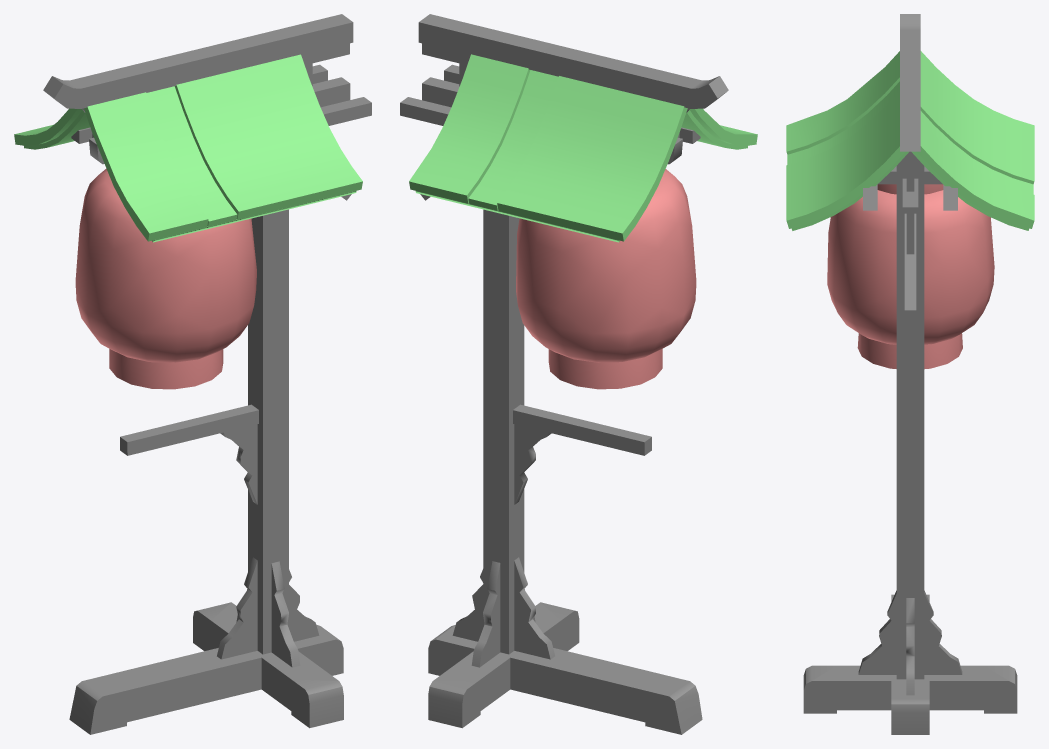
File: SM_ENV_LKNVLD_InnSignboard_B_Lod1.gltf
The picture shows the model from 3 angles, left to right: view 1: azimuth 30°, elevation 25°; view 2: azimuth 150°, elevation 25°; view 3: azimuth 270°, elevation 25°; orthographic projection. The views are drawn at different scales.
Parts seen in each view (by area): view 1: SM_ENV_LKNVLD_InnSignboard_B_Lod1; view 2: SM_ENV_LKNVLD_InnSignboard_B_Lod1; view 3: SM_ENV_LKNVLD_InnSignboard_B_Lod1.
Part boxes in pixels (x1=…): SM_ENV_LKNVLD_InnSignboard_B_Lod1: x1=14, y1=14, x2=371, y2=734; SM_ENV_LKNVLD_InnSignboard_B_Lod1: x1=400, y1=14, x2=757, y2=734; SM_ENV_LKNVLD_InnSignboard_B_Lod1: x1=786, y1=14, x2=1034, y2=734.
Bounding box in the file's own units: 1.29 × 2.67 × 1.
